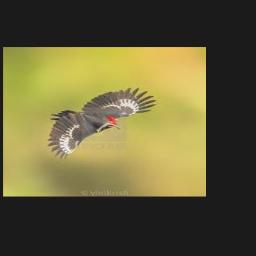Woodpecker: (47, 87, 157, 159)
